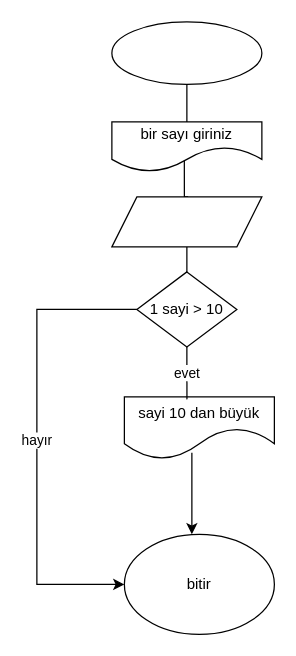
The diagram is 296 pixels wide and 656 high, and some of its shapes have lost their labels. The shapes that lost their labels are listed below. From the top down, each one's box as (x1, y1, x2, y2) in pixels, then its label:
(111, 21, 262, 84): başla
(111, 196, 262, 247): 1.sayi
